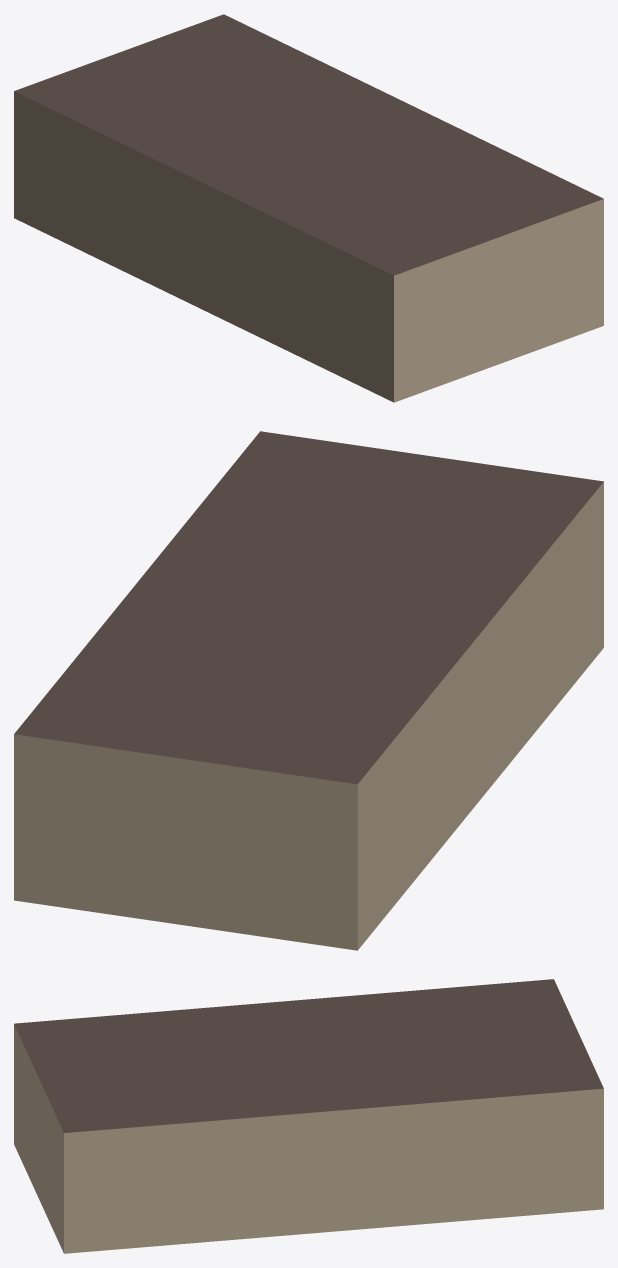
The picture shows the model from 3 angles, top to bottom: view 1: azimuth 30°, elevation 25°; view 2: azimuth 150°, elevation 25°; view 3: azimuth 270°, elevation 25°; orthographic projection. The views are drawn at different scales.
Parts seen in each view (by area): view 1: HP-w1234546197; view 2: HP-w1234546197; view 3: HP-w1234546197.
Boxes of the visible parts, box(x1,y1,x2,y2) form: HP-w1234546197: box(14, 14, 603, 402); HP-w1234546197: box(14, 431, 603, 950); HP-w1234546197: box(14, 979, 603, 1253).
Bounding box in the file's own units: 24.63 × 9 × 39.87.
